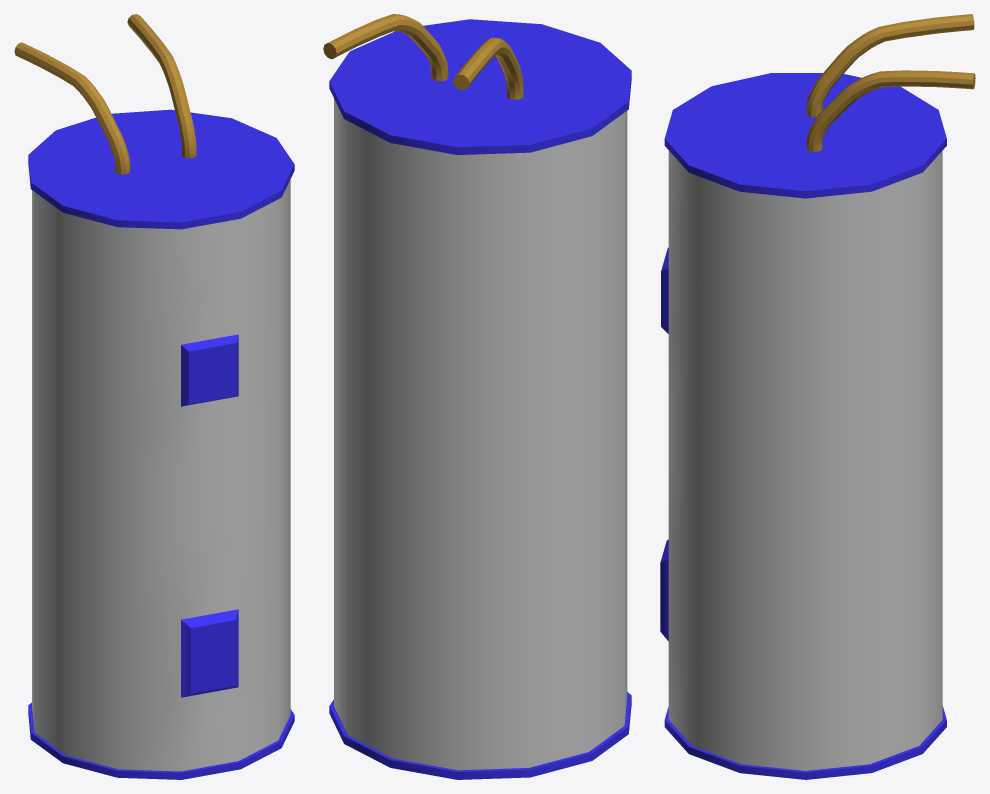
The model's file is Water_Heater.fbx.
The picture shows the model from 3 angles, left to right: view 1: azimuth 30°, elevation 25°; view 2: azimuth 150°, elevation 25°; view 3: azimuth 270°, elevation 25°; orthographic projection. The views are drawn at different scales.
Parts seen in each view (by area): view 1: Water_Heater1; view 2: Water_Heater1; view 3: Water_Heater1.
Boxes of the visible parts, box(x1,y1,x2,y2) form: Water_Heater1: box(14, 14, 294, 779); Water_Heater1: box(323, 14, 631, 779); Water_Heater1: box(660, 14, 975, 779).
Bounding box in the file's own units: 69.01 × 183 × 77.62.
Materials: 2 (2 with a texture image).
